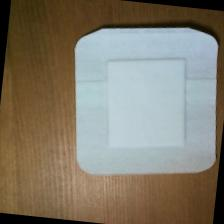Dressing: (58, 13, 224, 190)
